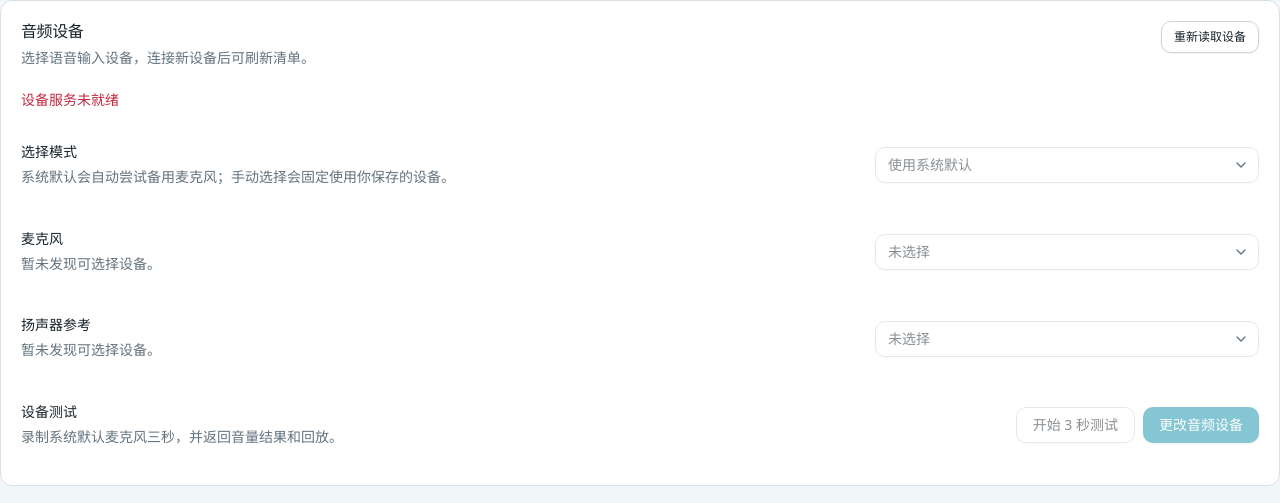
Test: AudioDeviceSettingsPanel › 设备读取失败提供重试，并在成功后恢复设备选择
Check: the text "设备服务未就绪" is shown, box [21,90,119,109]
Check: the button "开始 3 秒测试" is disabled, box [1016,407,1135,443]
Step 1. Click the button "重新读取设备" → (1210, 37), box [1161,21,1259,53]
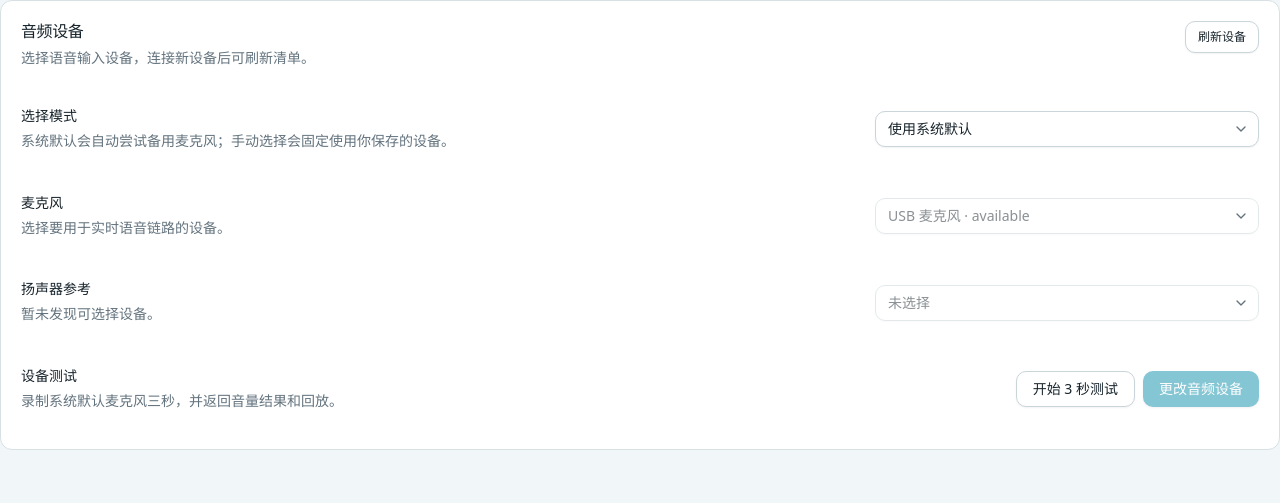
Check: the dropdown named "麦克风" shows "USB 麦克风 · available", box [875,198,1259,234]
Check: the text "设备服务未就绪" is gone
